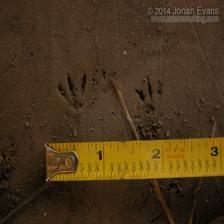rat: (53, 70, 95, 127), (129, 73, 167, 132)
